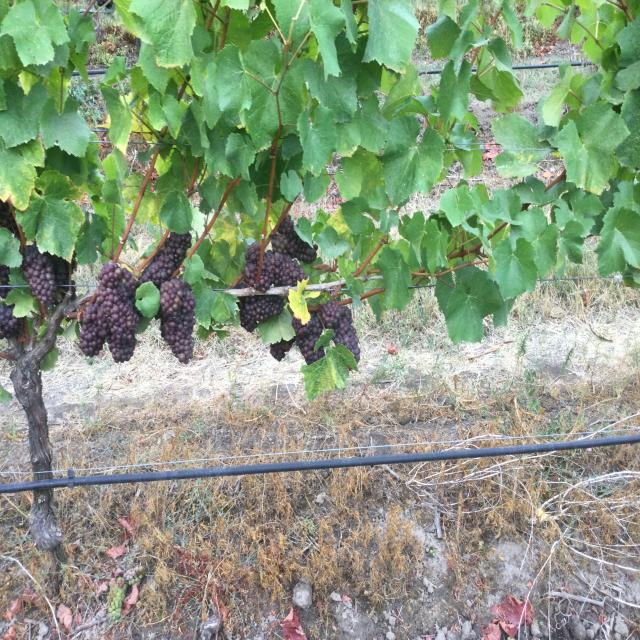grapes: (79, 262, 140, 362), (21, 243, 69, 307), (159, 278, 195, 363), (139, 233, 191, 288), (320, 300, 360, 362), (271, 215, 318, 263), (292, 313, 325, 365), (240, 295, 284, 332), (244, 242, 275, 292), (274, 252, 306, 287), (0, 303, 21, 338)
